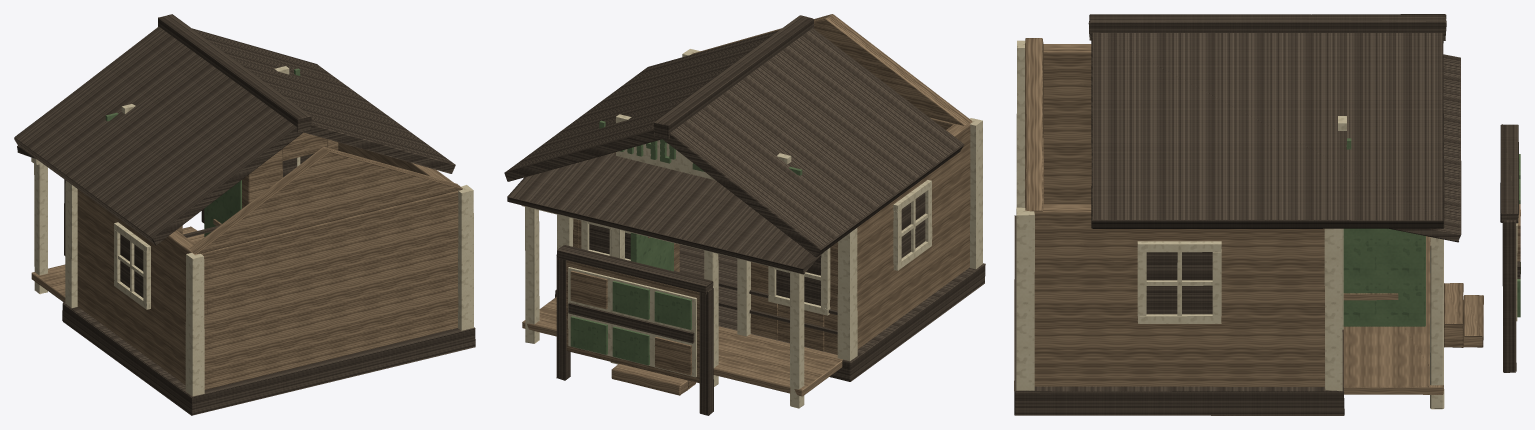
Rendered from land_office.glb.
The picture shows the model from 3 angles, left to right: view 1: azimuth 30°, elevation 25°; view 2: azimuth 150°, elevation 25°; view 3: azimuth 270°, elevation 25°; orthographic projection. The views are drawn at different scales.
Visible parts, largest first — view 1: LandOffice; view 2: LandOffice; view 3: LandOffice.
Boxes of the visible parts, x1,y1,x2,y2 form: LandOffice: (14,14,475,415); LandOffice: (504,14,985,415); LandOffice: (1014,14,1520,415).
Size of the model in its own units: 5.69 by 4.36 by 6.45.
4 materials, 4 textured.
